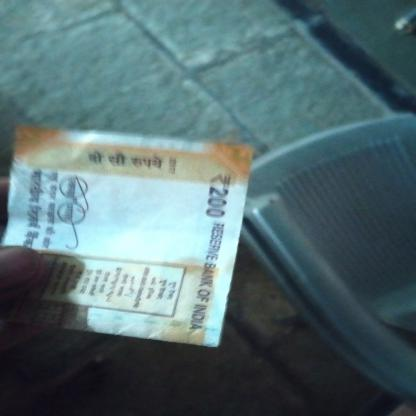New200Back: (9, 134, 234, 340)
